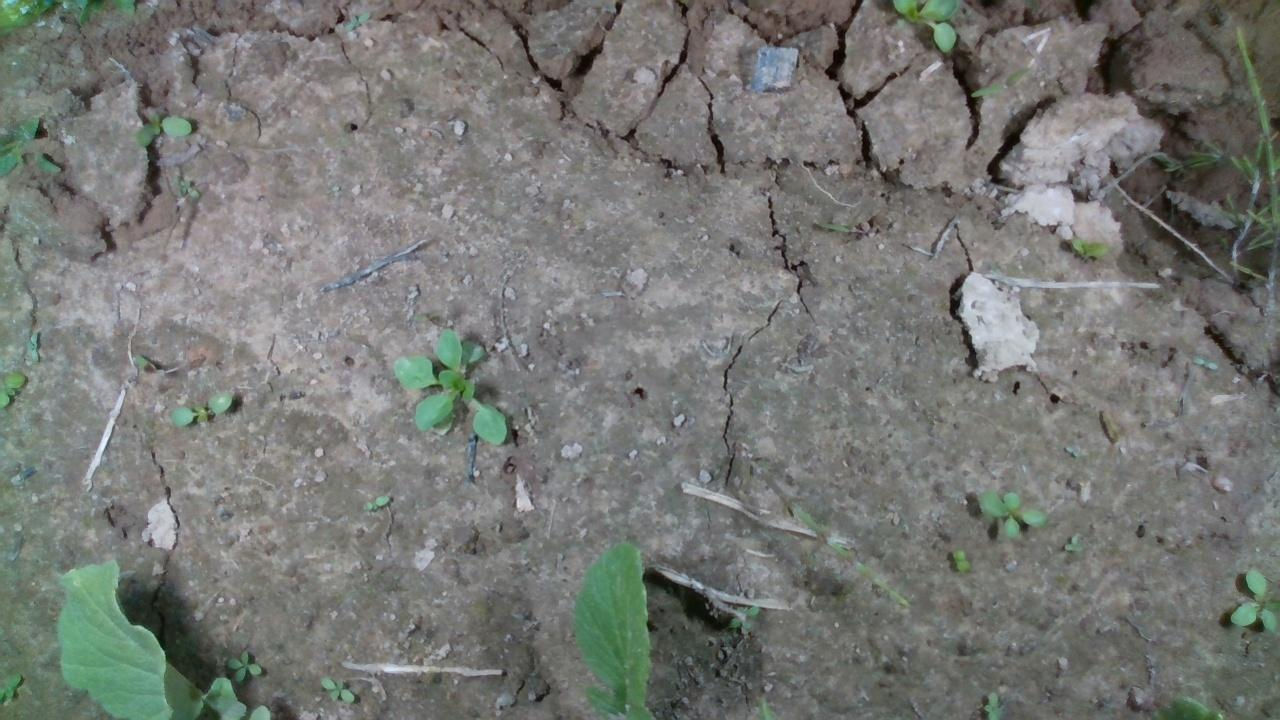weed: (976, 487, 1048, 540), (1224, 565, 1277, 633), (169, 389, 233, 427), (133, 113, 192, 147), (317, 675, 355, 704), (727, 603, 758, 631), (360, 492, 390, 512), (1190, 355, 1218, 371), (952, 548, 970, 572), (1062, 532, 1083, 552)
